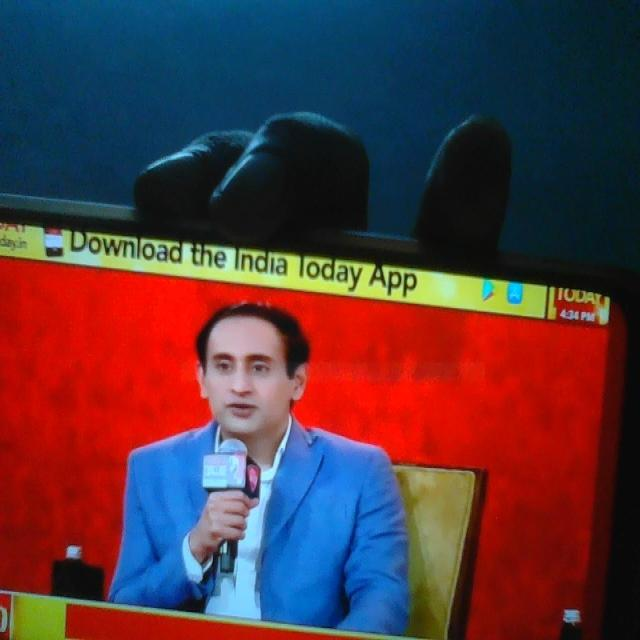fake: (201, 271, 299, 456)
